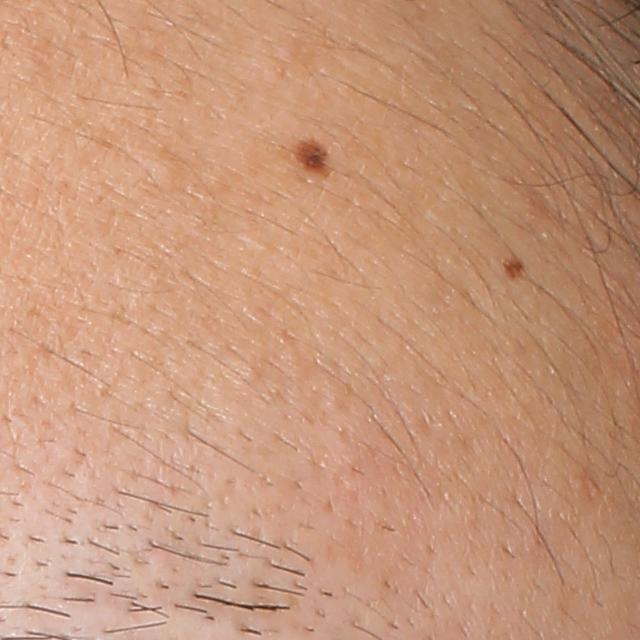comedo: (150, 157, 192, 192)
nevus: (289, 135, 335, 176), (495, 256, 527, 278)
